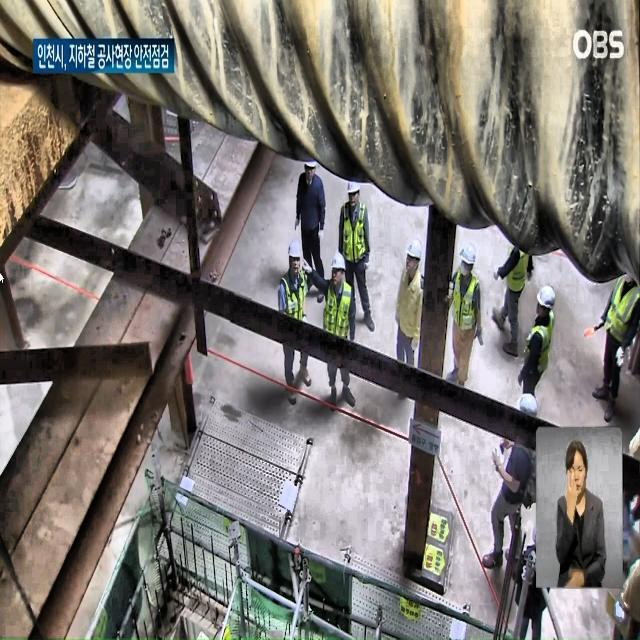safety_helmet: (516, 384, 548, 424), (455, 239, 485, 277), (535, 283, 561, 321), (398, 236, 425, 272), (301, 144, 324, 183), (286, 239, 310, 270), (340, 172, 361, 206), (328, 248, 351, 279)
safety_jacket: (276, 276, 320, 350), (604, 271, 635, 367), (448, 278, 484, 344), (498, 240, 534, 300), (526, 319, 558, 386), (338, 206, 367, 268), (334, 278, 360, 344)
